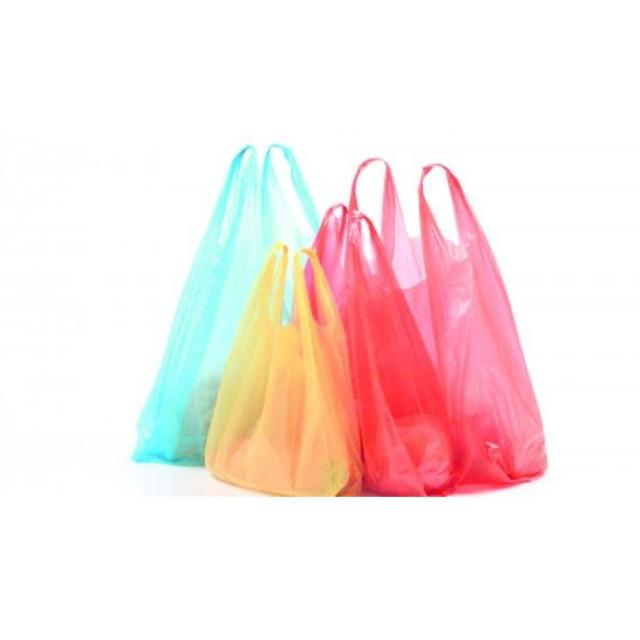plastik: (132, 145, 319, 464), (379, 162, 546, 488), (314, 200, 454, 495), (206, 242, 361, 495), (349, 160, 381, 211)
